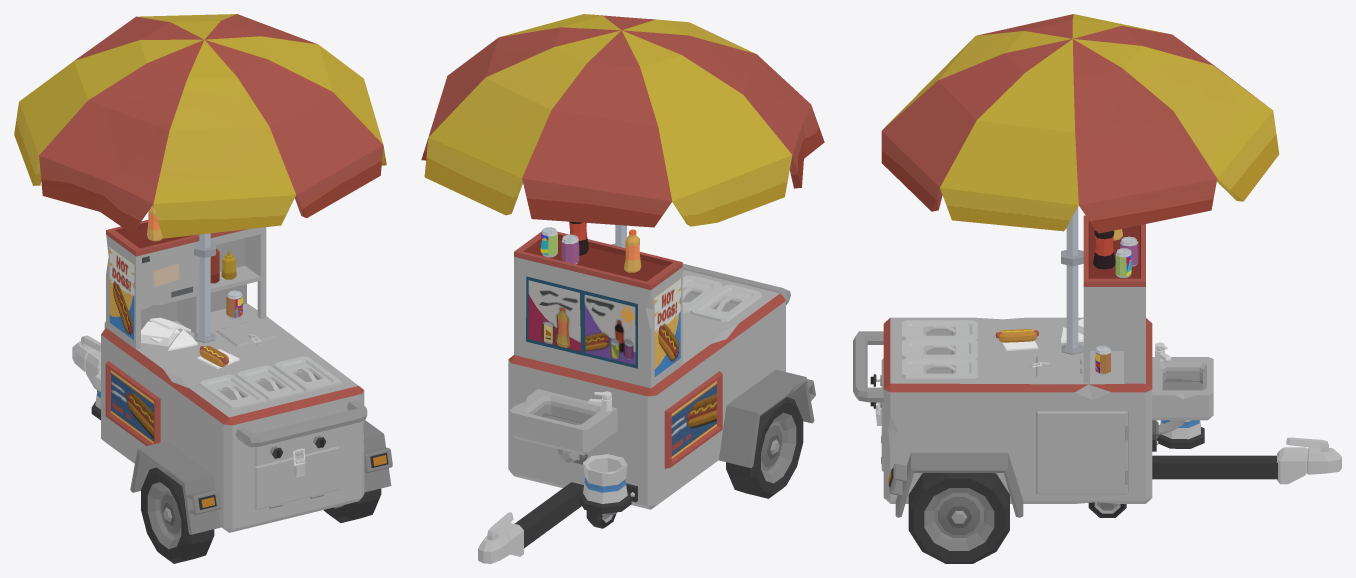
File: stall_hotdogs.glb
3 renders of one model, left to right at view 1: azimuth 30°, elevation 25°; view 2: azimuth 150°, elevation 25°; view 3: azimuth 270°, elevation 25°, orthographic. The views are drawn at different scales.
Parts seen in each view (by area): view 1: SM_Prop_HotDog_Cart_Umbrella, SM_Veh_Hotdog_Cart_01, SM_Veh_Hotdog_Cart_Wheel_L_01, SM_Veh_Hotdog_Cart_Back_Door_01, SM_Veh_Hotdog_Cart_Lid_03, SM_Veh_Hotdog_Cart_Lid_01, SM_Veh_Hotdog_Cart_Lid_02, SM_Prop_Towbar, SM_Veh_Hotdog_Cart_Wheel_R_01, SM_Veh_Hotdog_Cart_Top_Door_01, SM_Prop_Food_Napkins_01, SM_Prop_Food_Napkins_02; view 2: SM_Prop_HotDog_Cart_Umbrella, SM_Veh_Hotdog_Cart_01, SM_Veh_Hotdog_Cart_Wheel_L_01, SM_Prop_Towbar, SM_Veh_Hotdog_Cart_Lid_01, SM_Veh_Hotdog_Cart_Lid_02, SM_Prop_Drink_Bottle_01, SM_Prop_Drink_Can_02; view 3: SM_Prop_HotDog_Cart_Umbrella, SM_Veh_Hotdog_Cart_01, SM_Veh_Hotdog_Cart_Wheel_R_01, SM_Veh_Hotdog_Cart_Side_Door_01, SM_Prop_Towbar, SM_Veh_Hotdog_Cart_Lid_03, SM_Veh_Hotdog_Cart_Lid_01, SM_Veh_Hotdog_Cart_Lid_02, SM_Veh_Hotdog_Cart_Top_Door_01, SM_Prop_Drink_Bottle_02.
Boxes of the visible parts, box(x1,y1,x2,y2) form: SM_Prop_HotDog_Cart_Umbrella: box(14, 14, 386, 342); SM_Veh_Hotdog_Cart_01: box(91, 220, 392, 534); SM_Veh_Hotdog_Cart_Wheel_L_01: box(141, 467, 214, 563); SM_Veh_Hotdog_Cart_Back_Door_01: box(254, 446, 339, 510); SM_Veh_Hotdog_Cart_Lid_03: box(273, 356, 341, 391); SM_Veh_Hotdog_Cart_Lid_01: box(198, 374, 266, 409); SM_Veh_Hotdog_Cart_Lid_02: box(236, 365, 304, 400); SM_Prop_Towbar: box(72, 335, 100, 389); SM_Veh_Hotdog_Cart_Wheel_R_01: box(323, 488, 381, 522); SM_Veh_Hotdog_Cart_Top_Door_01: box(216, 320, 276, 346); SM_Prop_Food_Napkins_01: box(141, 321, 179, 346); SM_Prop_Food_Napkins_02: box(149, 317, 197, 350); SM_Prop_HotDog_Cart_Umbrella: box(421, 14, 824, 247); SM_Veh_Hotdog_Cart_01: box(508, 231, 815, 548); SM_Veh_Hotdog_Cart_Wheel_L_01: box(726, 397, 803, 498); SM_Prop_Towbar: box(478, 512, 523, 563); SM_Veh_Hotdog_Cart_Lid_01: box(690, 284, 761, 321); SM_Veh_Hotdog_Cart_Lid_02: box(682, 275, 722, 312); SM_Prop_Drink_Bottle_01: box(624, 229, 641, 272); SM_Prop_Drink_Can_02: box(561, 234, 579, 264); SM_Prop_HotDog_Cart_Umbrella: box(881, 14, 1279, 354); SM_Veh_Hotdog_Cart_01: box(853, 215, 1277, 517); SM_Veh_Hotdog_Cart_Wheel_R_01: box(908, 473, 1009, 563); SM_Veh_Hotdog_Cart_Side_Door_01: box(1036, 411, 1128, 493); SM_Prop_Towbar: box(1277, 437, 1341, 484); SM_Veh_Hotdog_Cart_Lid_03: box(902, 358, 977, 378); SM_Veh_Hotdog_Cart_Lid_01: box(902, 320, 977, 339); SM_Veh_Hotdog_Cart_Lid_02: box(902, 339, 977, 358); SM_Veh_Hotdog_Cart_Top_Door_01: box(1036, 356, 1082, 377); SM_Prop_Drink_Bottle_02: box(1093, 230, 1115, 269).
Size of what is drawn, in the model's own units: 2.15 by 2.85 by 2.65.
1 material, 1 textured.
